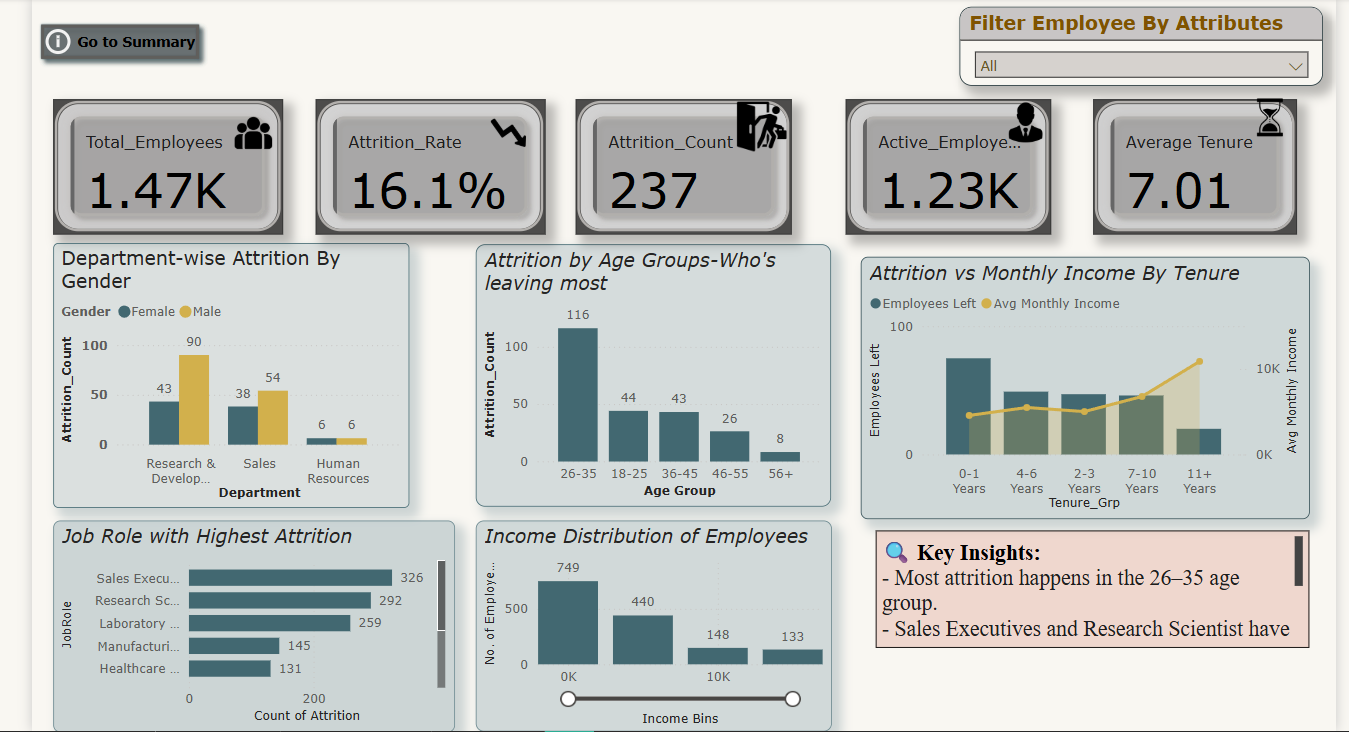

The page's visual inventory and layout, read from the dashboard file:
{"tool":"powerbi","page":{"name":"Dashboard","canvas":[1280,720],"ordinal":0},"visuals":[{"type":"cardVisual","title":"Total Employees","fields":{"Data":["HR-Employee-Attrition.Total_Employees"]},"box":[20.9,99.4,225.8,132.5],"z":500},{"type":"clusteredColumnChart","title":"Department-wise Attrition By Gender","fields":{"Category":["HR-Employee-Attrition.Department"],"Y":["HR-Employee-Attrition.Attrition_Count"],"Series":["HR-Employee-Attrition.Gender"]},"box":[20.9,240.5,349.7,260.1],"z":1000},{"type":"clusteredColumnChart","title":"Attrition by Age Groups-Who''s leaving most","fields":{"Category":["HR-Employee-Attrition.Age Group"],"Y":["HR-Employee-Attrition.Attrition_Count"]},"box":[435.6,241.7,348.5,257.7],"z":2000},{"type":"lineClusteredColumnComboChart","title":"Attrition vs Monthly Income By Tenure","fields":{"Category":["HR-Employee-Attrition.Tenure_Grp"],"Y":["HR-Employee-Attrition.Attrition_Count"],"Y2":["Avg(HR-Employee-Attrition.MonthlyIncome)"]},"box":[813.5,254,440.5,257.7],"z":3000},{"type":"barChart","title":"Job Role with Highest Attrition","fields":{"Category":["HR-Employee-Attrition.JobRole"],"Y":["CountNonNull(HR-Employee-Attrition.Attrition)"]},"box":[21.1,512.5,394.3,207.7],"z":4000},{"type":"clusteredColumnChart","title":"Income Distribution of Employees","fields":{"Category":["HR-Employee-Attrition.Income Bins"],"Y":["CountNonNull(HR-Employee-Attrition.EmployeeNumber)"]},"box":[435.6,512.9,349.7,207.4],"z":5000},{"type":"slicer","title":"Filter Employee By Attributes","fields":{"Values":["HR-Employee-Attrition.Age Group","HR-Employee-Attrition.Gender","HR-Employee-Attrition.Department","HR-Employee-Attrition.EducationField","HR-Employee-Attrition.MaritalStatus","HR-Employee-Attrition.JobRole","HR-Employee-Attrition.Tenure","HR-Employee-Attrition.PerformanceRating"]},"box":[910.4,8.6,357.1,77.3],"z":6000},{"type":"cardVisual","fields":{"Data":["HR-Employee-Attrition.Active_Employees"]},"box":[798.8,99.4,201.2,132.5],"z":7000},{"type":"cardVisual","fields":{"Data":["Avg(HR-Employee-Attrition.Tenure)"]},"box":[1041.7,99.4,200,132.5],"z":8000},{"type":"cardVisual","fields":{"Data":["HR-Employee-Attrition.Attrition_Count"]},"box":[533.7,99.4,212.3,132.5],"z":9000},{"type":"cardVisual","fields":{"Data":["HR-Employee-Attrition.Attrition_Rate"]},"box":[278.5,99.4,225.8,132.5],"z":10000},{"type":"textbox","box":[828.2,522.7,425.8,115.3],"z":11000},{"type":"image","box":[187.7,109.2,58.9,46.6],"z":12000},{"type":"image","box":[435.6,109.2,63.8,46.6],"z":12001},{"type":"image","box":[950.9,96.9,49.1,50.3],"z":12002},{"type":"image","box":[1189,92,52.8,50.3],"z":12003},{"type":"image","box":[687.1,96.9,58.9,58.9],"z":12004},{"type":"actionButton","box":[0,17.2,173,51.5],"z":12005}]}

Visuals, with their boxes on the page's 1280x720 design canvas (x1, y1, x2, y2). These are canvas units, not pixel positions in the 1349x732 screenshot, which may show the page scaled, cropped or inside an application window:
"Total Employees" cardVisual: 21/99/247/232
"Department-wise Attrition By Gender" clusteredColumnChart: 21/240/371/501
"Attrition by Age Groups-Who''s leaving most" clusteredColumnChart: 436/242/784/499
"Attrition vs Monthly Income By Tenure" lineClusteredColumnComboChart: 814/254/1254/512
"Job Role with Highest Attrition" barChart: 21/512/415/720
"Income Distribution of Employees" clusteredColumnChart: 436/513/785/720
"Filter Employee By Attributes" slicer: 910/9/1268/86
cardVisual - HR-Employee-Attrition.Active_Employees: 799/99/1000/232
cardVisual - Avg(HR-Employee-Attrition.Tenure): 1042/99/1242/232
cardVisual - HR-Employee-Attrition.Attrition_Count: 534/99/746/232
cardVisual - HR-Employee-Attrition.Attrition_Rate: 278/99/504/232
textbox: 828/523/1254/638
image: 188/109/247/156
image: 436/109/499/156
image: 951/97/1000/147
image: 1189/92/1242/142
image: 687/97/746/156
actionButton: 0/17/173/69
